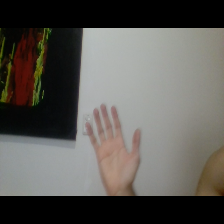left: (80, 94, 155, 191)
